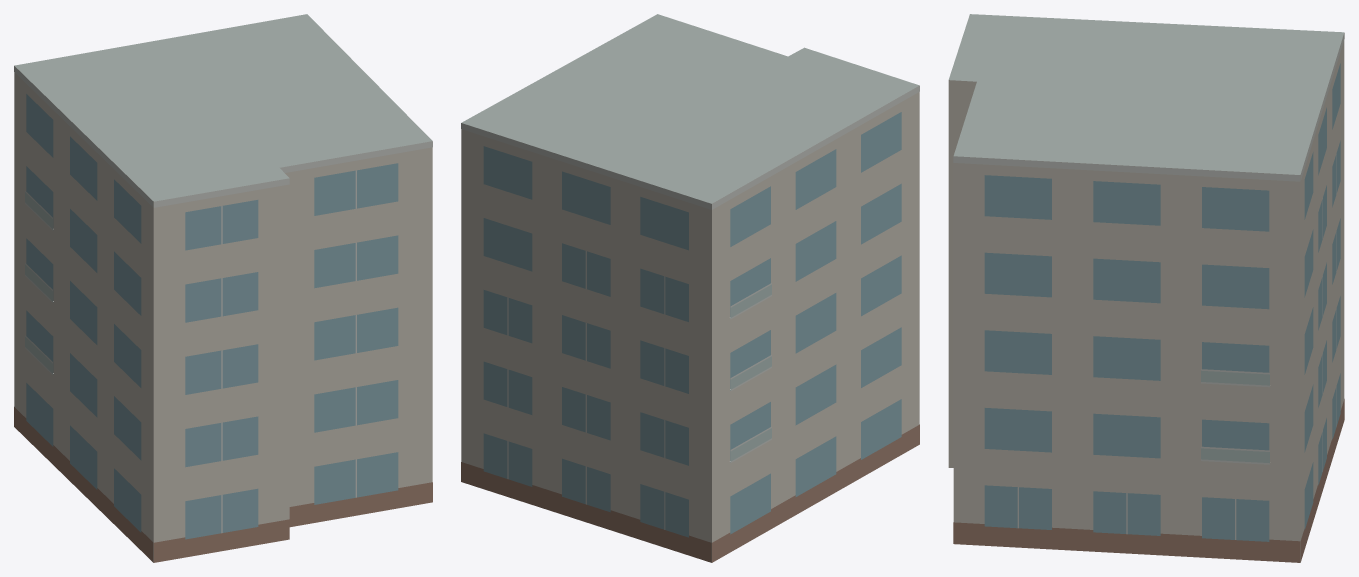
File: survey-upis-32808997.glb
3 renders of one model, left to right at view 1: azimuth 30°, elevation 25°; view 2: azimuth 150°, elevation 25°; view 3: azimuth 270°, elevation 25°, orthographic. The views are drawn at different scales.
Visible parts, largest first — view 1: survey-upis-32808997.tmp; view 2: survey-upis-32808997.tmp; view 3: survey-upis-32808997.tmp.
Boxes of the visible parts, left/top/right/bottom form: survey-upis-32808997.tmp: left=14, top=14, right=432, bottom=562; survey-upis-32808997.tmp: left=461, top=14, right=919, bottom=562; survey-upis-32808997.tmp: left=948, top=14, right=1344, bottom=562.
Bounding box in the file's own units: 12.66 × 14.2 × 13.15.
